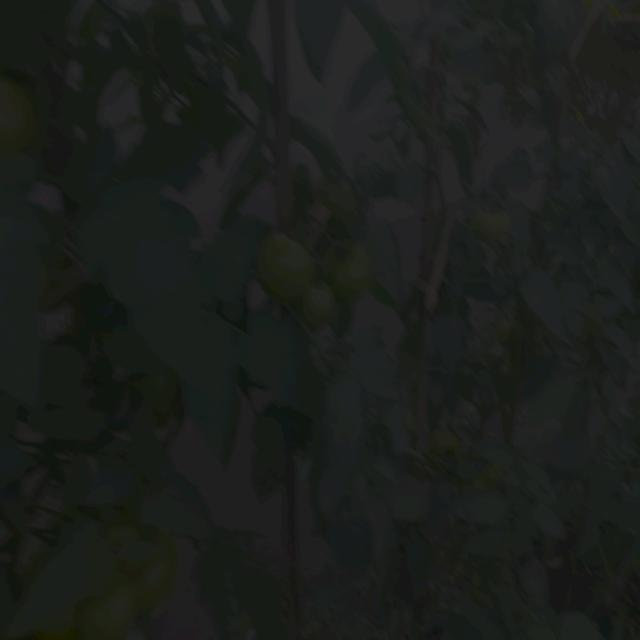tomato: (136, 546, 190, 609), (2, 81, 42, 165), (257, 233, 304, 301), (85, 589, 145, 638), (330, 243, 375, 299), (298, 277, 340, 320), (481, 198, 516, 244), (142, 373, 177, 416), (321, 175, 355, 217), (428, 421, 469, 455), (493, 310, 527, 348), (489, 462, 510, 481)
